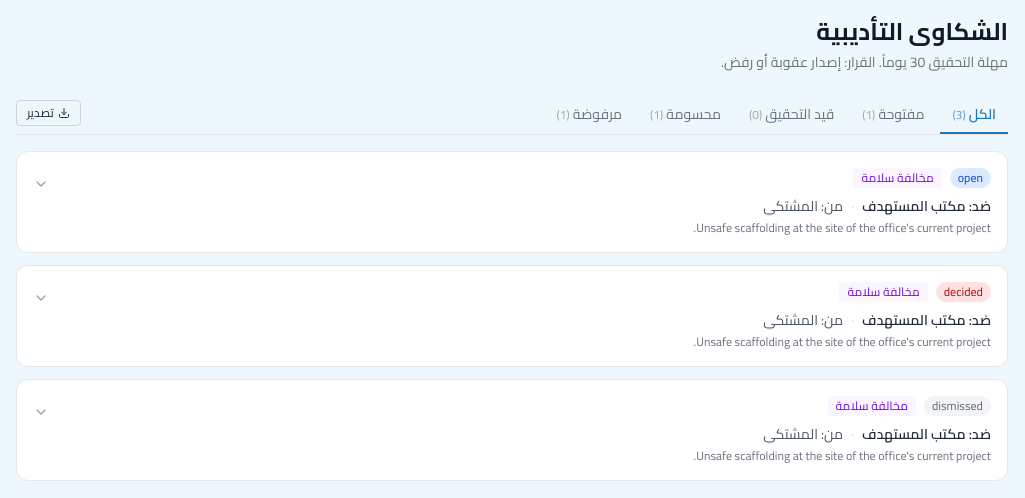
Test case: ComplaintsAdmin (JORD-81 UI) › filter tabs narrow the list by status
The image size is (1025, 498).
Expected: the element with test id "filter-tabs" is shown, x1=544 y1=96 x2=1008 y2=134
What coordinates should you click on to do the following:
click the button with test id "filter-decided"
I would click on:
 (686, 115)
Its box is x1=638 y1=96 x2=733 y2=134.
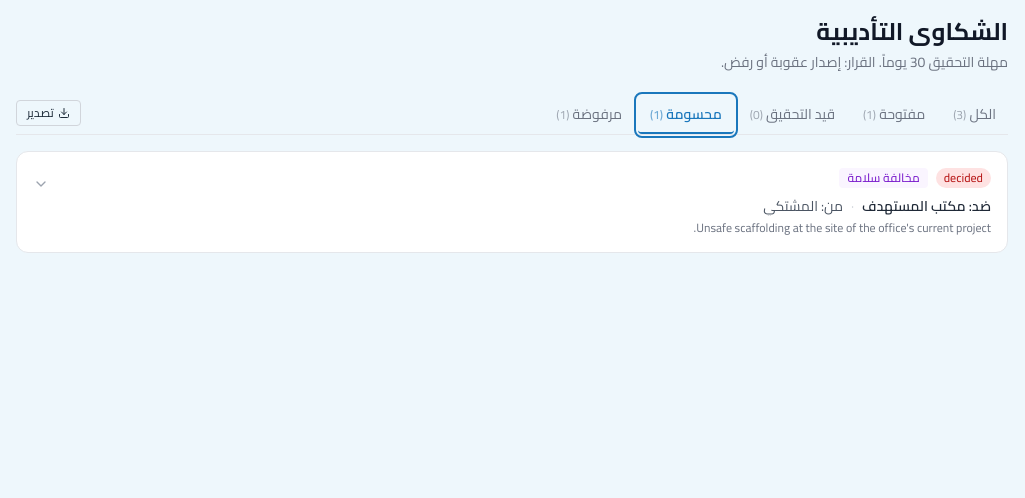
Expected: the element with test id "complaint-row-2" is shown, x1=16 y1=151 x2=1008 y2=253
Expected: the element with test id "complaint-row-1" is gone
Expected: the element with test id "complaint-row-3" is gone
